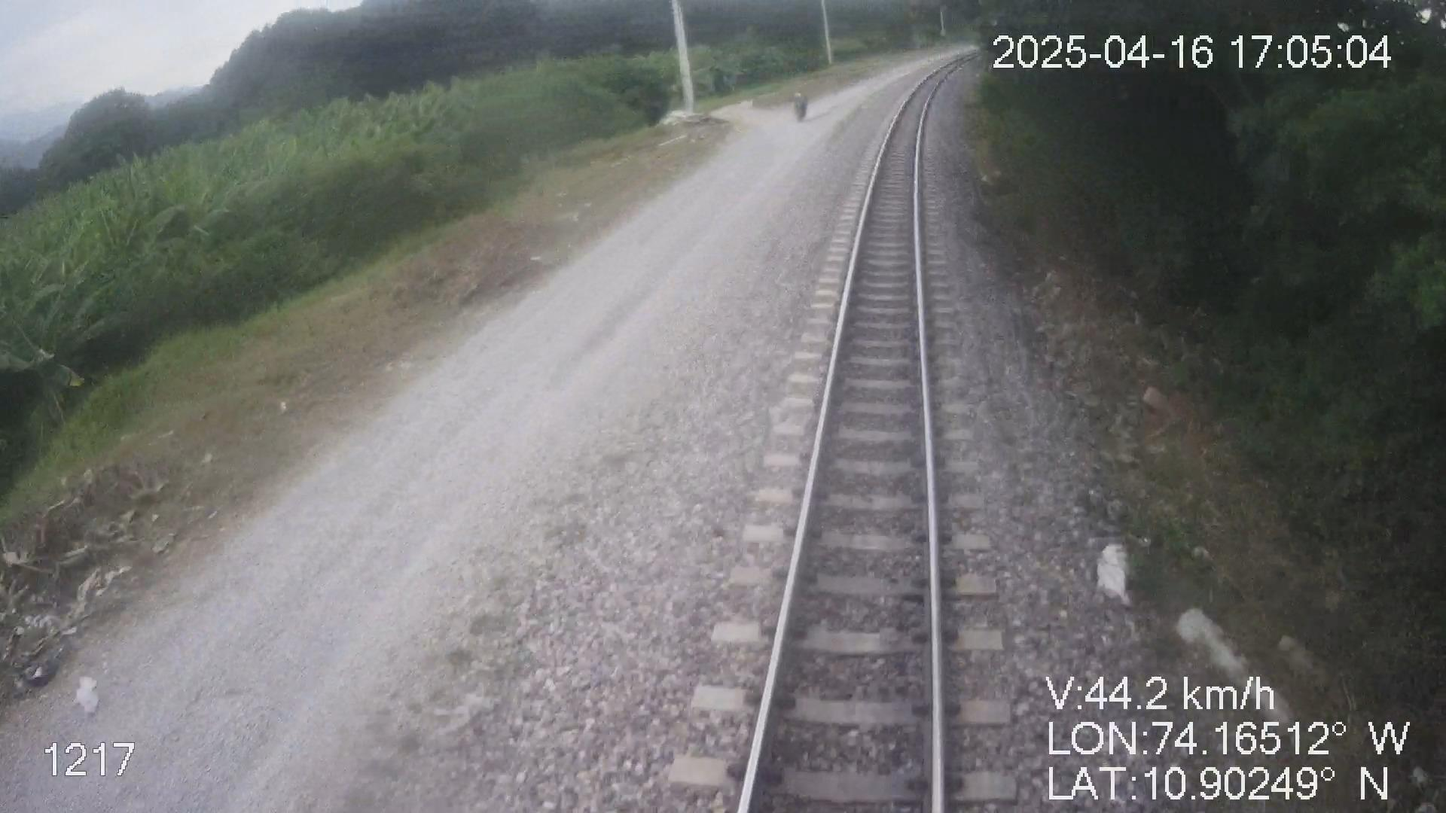Pasto: (0, 0, 975, 708), (977, 0, 1445, 778)
